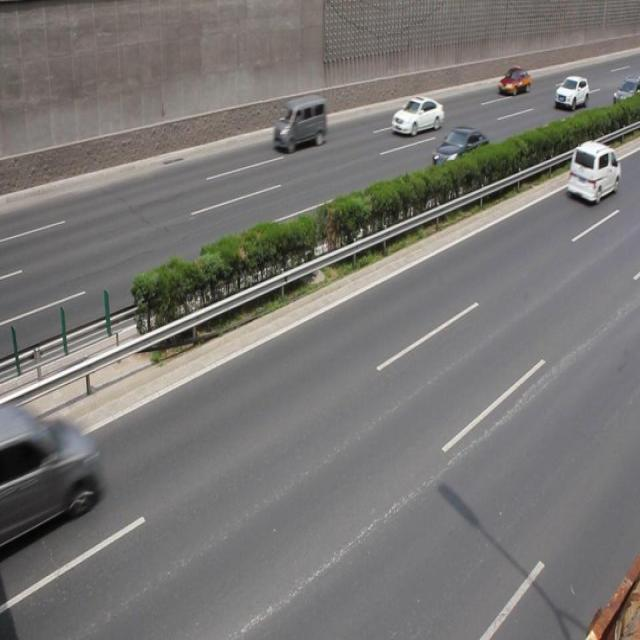car: (565, 140, 620, 204), (431, 123, 489, 178), (390, 95, 443, 137), (553, 74, 588, 112), (497, 67, 529, 97)
truck: (272, 93, 325, 154)
